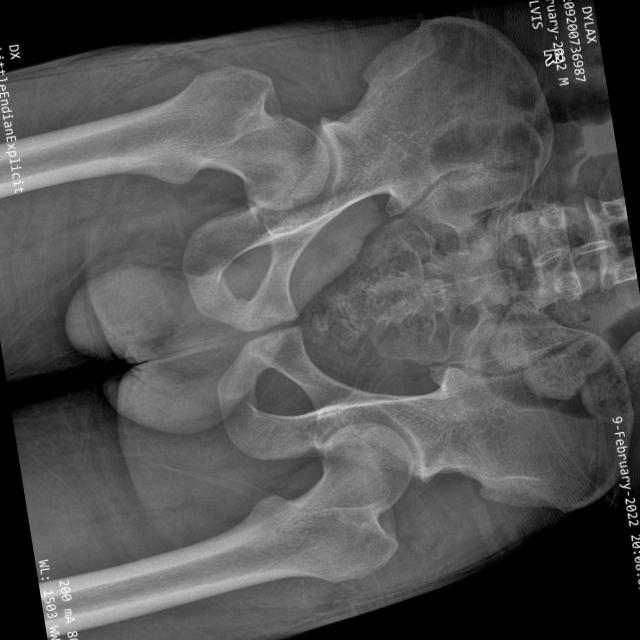normal-left: (138, 422, 413, 612)
normal-right: (24, 66, 330, 211)
